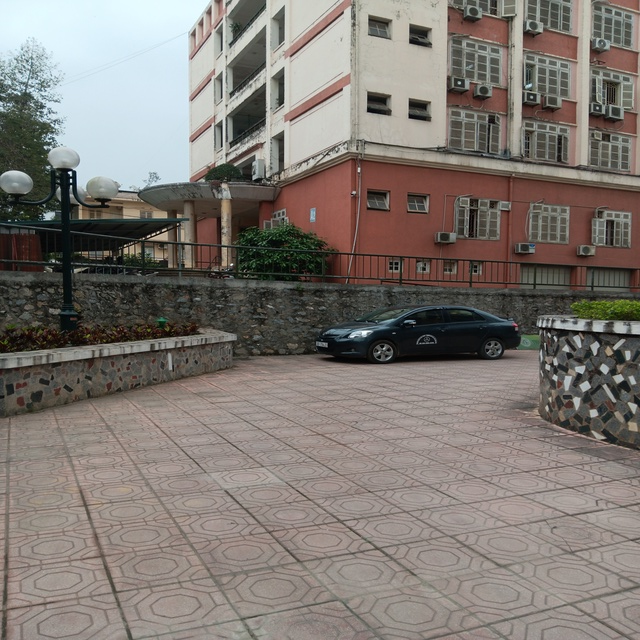cotden: (1, 139, 131, 341)
